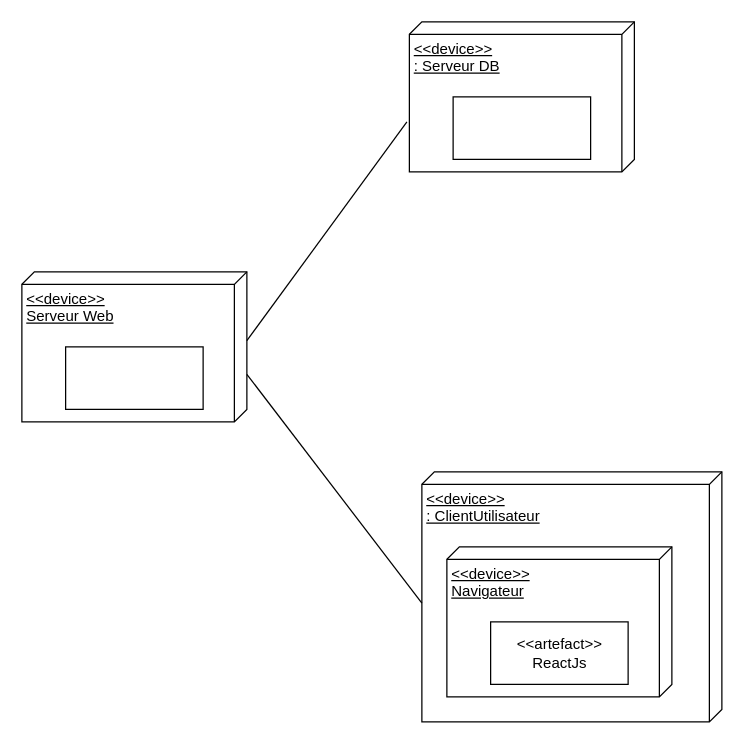
Image size: 744x744. Some labels were removed from this diagram. The shapes that lost their labels are listed below. From the top down, each one's centre as x and y in pixels, then its label:
pixel 521 127: <<artefact>> MySQL DB
pixel 133 377: <<artefact>> Site Web
